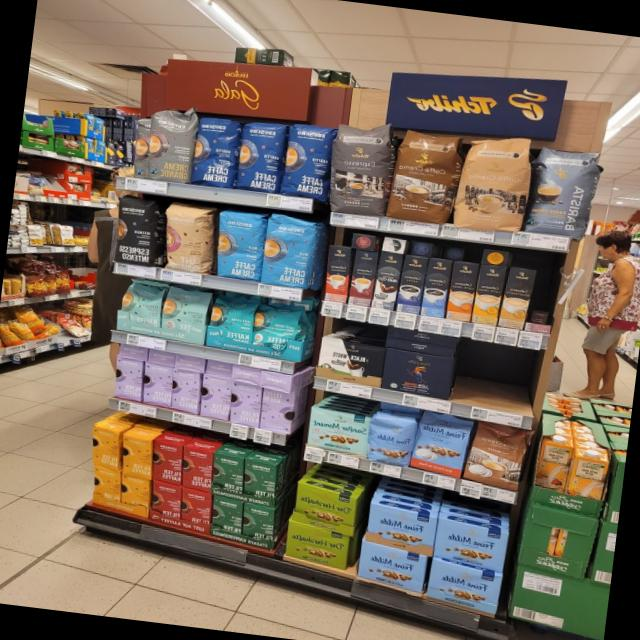BW Gemahlen: (313, 338, 384, 386)
Barista CC: (522, 138, 606, 240)
CC Mild: (449, 128, 536, 234)
CC Vollmundig: (462, 422, 534, 492)
CC Vollmundig 36 Pads: (387, 126, 465, 226)
Empty Shelf: (452, 348, 540, 412), (526, 270, 563, 324)
Espresso Aromatisch: (324, 113, 398, 220)
FM 36 Pads: (408, 412, 474, 480)
FM Bohne: (363, 412, 418, 468)
FM Gemahlen: (431, 517, 509, 574), (426, 558, 502, 614), (364, 502, 437, 557), (356, 538, 427, 593)
Herzhatfe Mundig: (290, 481, 356, 536), (283, 519, 349, 571)
LG Gemahlen: (378, 348, 456, 400)
SM Gemahlen: (304, 408, 372, 456)
Simo CCMild bigpack: (472, 264, 504, 326)
Simo CCVollmundig bigpack: (445, 260, 478, 322)
Simo Decaff: (496, 266, 536, 329)
Simo Es Brazil: (323, 245, 352, 303)
Simo Es Caramel: (348, 248, 378, 308)
Simo Es Elegant: (372, 252, 402, 310)
Simo Es Kraft: (396, 254, 426, 314)
Simo Es Vanilla: (420, 257, 450, 318)
